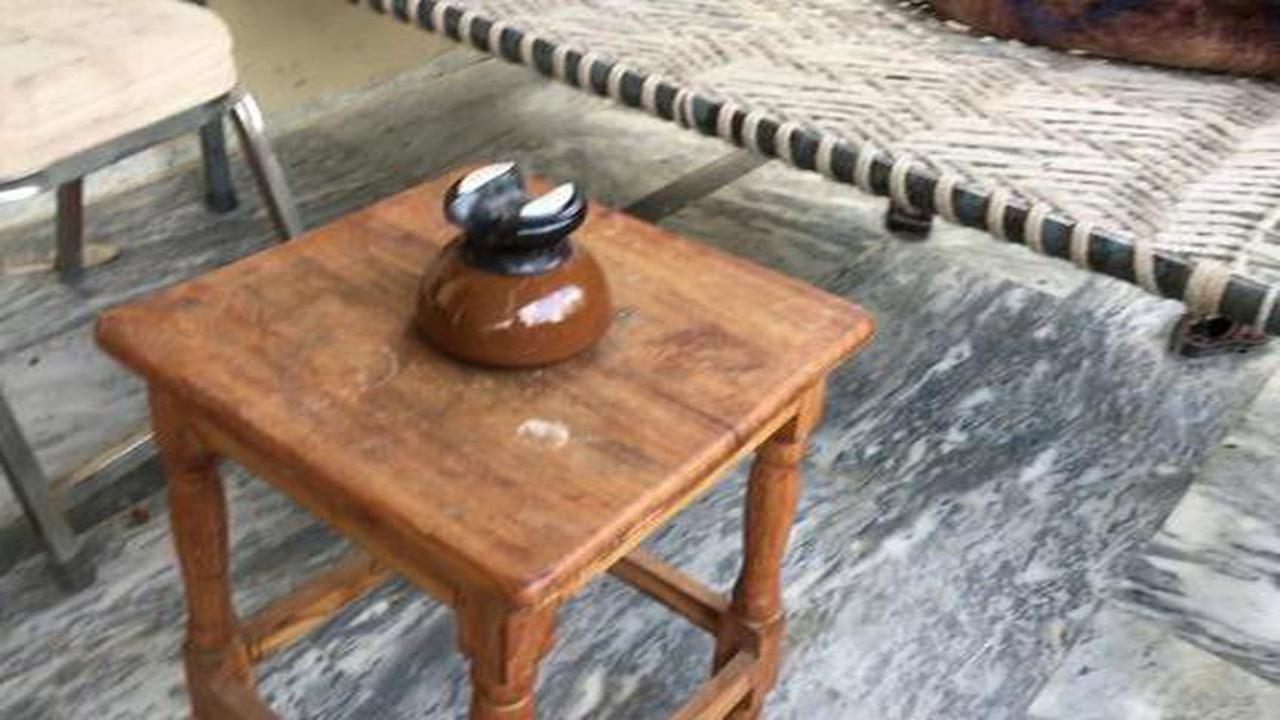insulator_pin: (404, 145, 625, 378)
